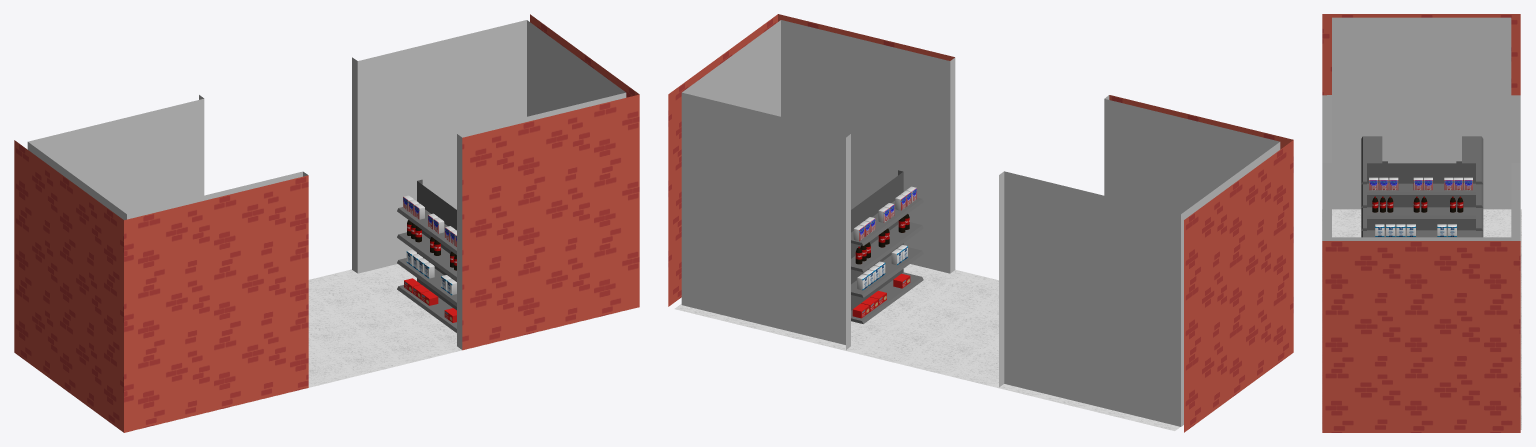
Rendered from Module 7.fbx.
3 renders of one model, left to right at view 1: azimuth 30°, elevation 25°; view 2: azimuth 150°, elevation 25°; view 3: azimuth 270°, elevation 25°, orthographic. The views are drawn at different scales.
Visible parts, largest first — view 1: Box002; view 2: Box002; view 3: Box002.
Part boxes in pixels (left/top/right/bottom): Box002: left=14, top=14, right=639, bottom=432; Box002: left=668, top=14, right=1293, bottom=432; Box002: left=1322, top=14, right=1521, bottom=432.
Bounding box in the file's own units: 2421 × 954 × 900.
